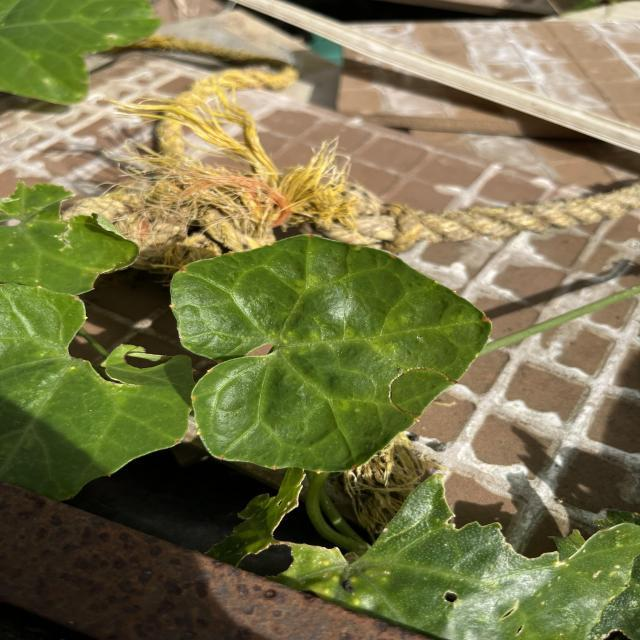Coccinia grandis: (167, 232, 495, 477)
